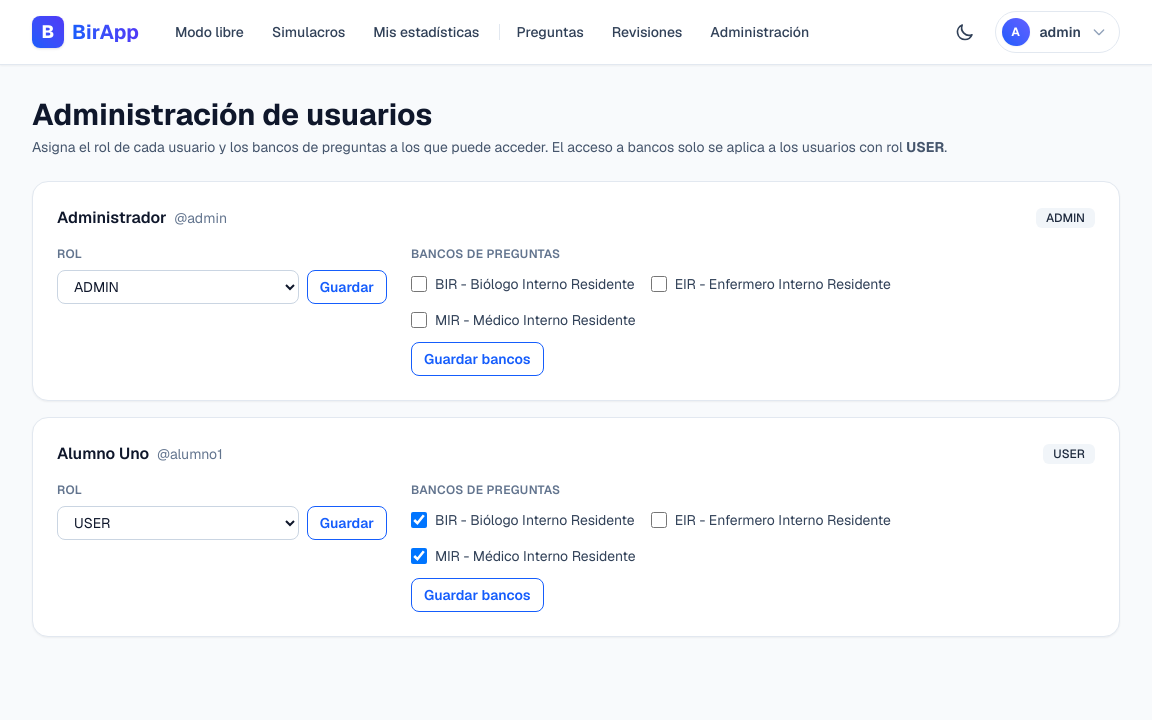
AdminUsersPage (/admin/users) › allows ADMIN to update a user allowed question banks via PUT /api/admin/users/{id}/banks
This screenshot has width=1152, height=720.
Click the 2nd checkbox labelled "EIR - Enfermero Interno Residente" at (659, 520), box [651,512,667,528]
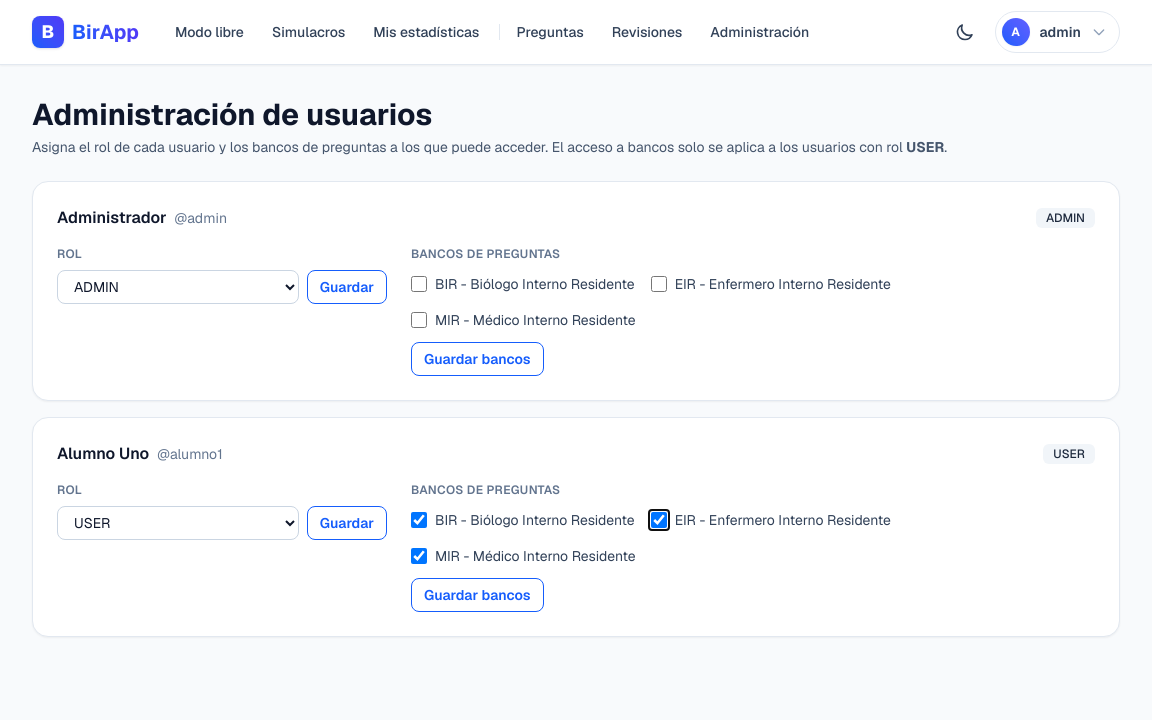
Click the button "Guardar bancos" below "alumno1" at (477, 595), box [411,578,544,612]
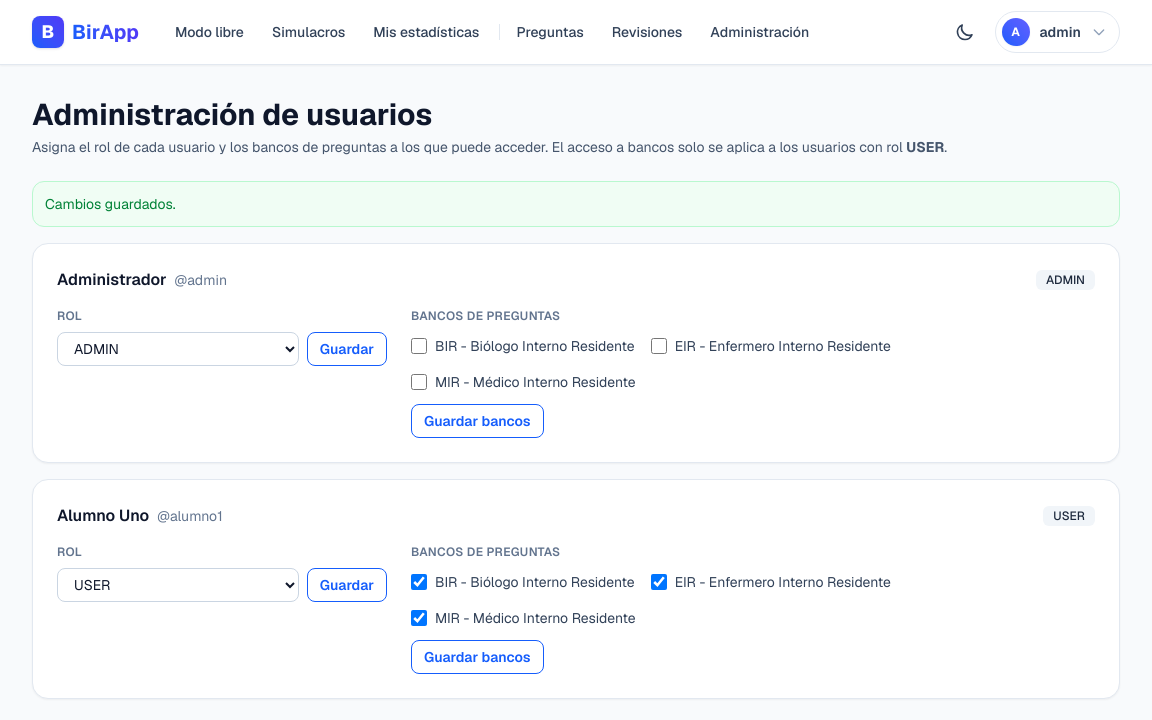
Expected: the text "Cambios guardados." is shown, [32,181,1120,227]
